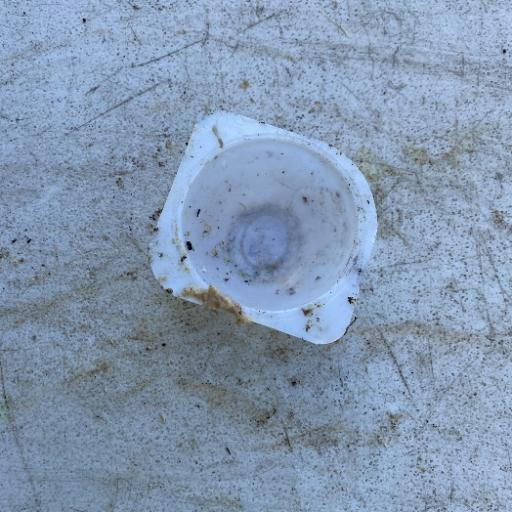Plastic: (146, 108, 381, 348)
